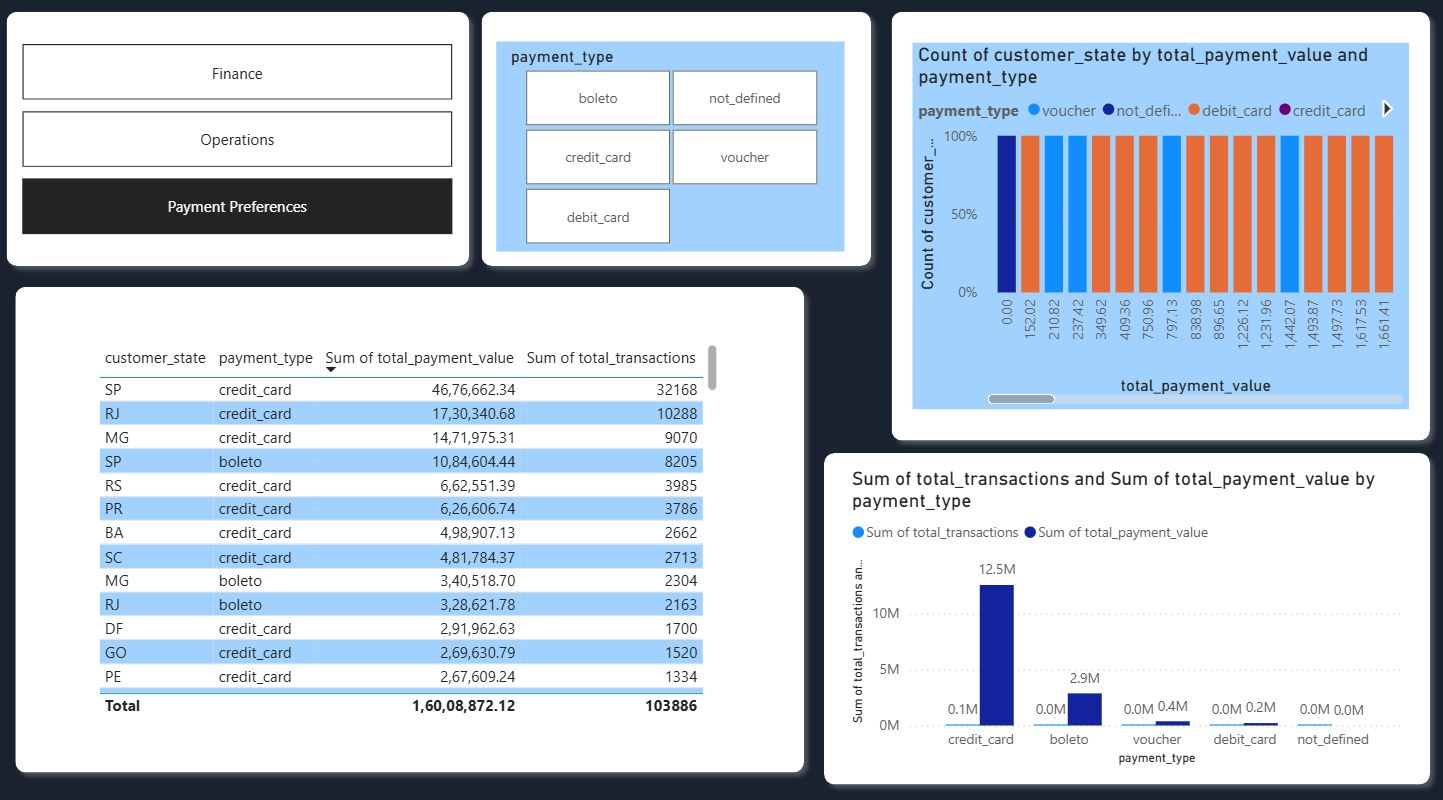

The page's visual inventory and layout, read from the dashboard file:
{"tool":"powerbi","page":{"name":"Payment Preferences","canvas":[1280,720],"ordinal":2},"visuals":[{"type":"shape","box":[419,10.7,360.7,241.7],"z":0,"group":"g2"},{"type":"shape","box":[779.8,10.7,491.7,395.2],"z":0,"group":"g3"},{"type":"shape","box":[8.3,252.4,711.9,445.2],"z":0,"group":"g5"},{"type":"shape","box":[720.2,398.8,551.2,309.5],"z":0,"group":"g4"},{"type":"hundredPercentStackedColumnChart","fields":{"Category":["payment_methods_by_state.total_payment_value"],"Series":["payment_methods_by_state.payment_type"],"Y":["CountNonNull(payment_methods_by_state.customer_state)"]},"box":[807.2,47.1,436.9,322.4],"z":1000,"group":"g3"},{"type":"tableEx","fields":{"Values":["payment_methods_by_state.customer_state","payment_methods_by_state.payment_type","Sum(payment_methods_by_state.total_payment_value)","Sum(payment_methods_by_state.total_transactions)"]},"box":[85.7,307.2,554.8,336.9],"z":1000,"group":"g5"},{"type":"clusteredColumnChart","fields":{"Category":["payment_methods_by_state.payment_type"],"Y":["Sum(payment_methods_by_state.total_transactions)","Sum(payment_methods_by_state.total_payment_value)"]},"box":[748.8,420.2,495.2,267.9],"z":1000,"group":"g4"},{"type":"group","id":"g1","title":"Group 2","box":[1.2,10.7,425,241.7],"z":2000},{"type":"group","id":"g2","title":"Group 1","box":[419,10.7,360.7,241.7],"z":3000},{"type":"group","id":"g3","title":"Group 3","box":[779.8,10.7,491.7,395.2],"z":4000},{"type":"slicer","fields":{"Values":["payment_methods_by_state.payment_type"]},"box":[441.3,45.8,306.2,184.5],"z":4000,"group":"g2"},{"type":"shape","box":[1.2,10.7,425,241.7],"z":5000,"group":"g1"},{"type":"group","id":"g4","title":"Group 4","box":[720.2,398.8,551.2,309.5],"z":5000},{"type":"group","id":"g5","title":"Group 5","box":[8.3,252.4,711.9,445.2],"z":5001},{"type":"pageNavigator","box":[24.5,48.3,378.4,167.8],"z":6000,"group":"g1"}]}

Visuals, with their boxes in screenshot pixels (x1, y1, x2, y2), scaled from the page's 1280x720 canvas onto the 1443x800 screenshot:
shape: box=[472, 12, 879, 280]
shape: box=[879, 12, 1433, 451]
shape: box=[9, 280, 812, 775]
shape: box=[812, 443, 1433, 787]
hundredPercentStackedColumnChart - payment_methods_by_state.total_payment_value x payment_methods_by_state.payment_type: box=[910, 52, 1403, 411]
tableEx - payment_methods_by_state.customer_state x payment_methods_by_state.payment_type: box=[97, 341, 722, 716]
clusteredColumnChart - payment_methods_by_state.payment_type x Sum(payment_methods_by_state.total_transactions): box=[844, 467, 1402, 765]
"Group 2" group: box=[1, 12, 480, 280]
"Group 1" group: box=[472, 12, 879, 280]
"Group 3" group: box=[879, 12, 1433, 451]
slicer - payment_methods_by_state.payment_type: box=[497, 51, 843, 256]
shape: box=[1, 12, 480, 280]
"Group 4" group: box=[812, 443, 1433, 787]
"Group 5" group: box=[9, 280, 812, 775]
pageNavigator: box=[28, 54, 454, 240]
